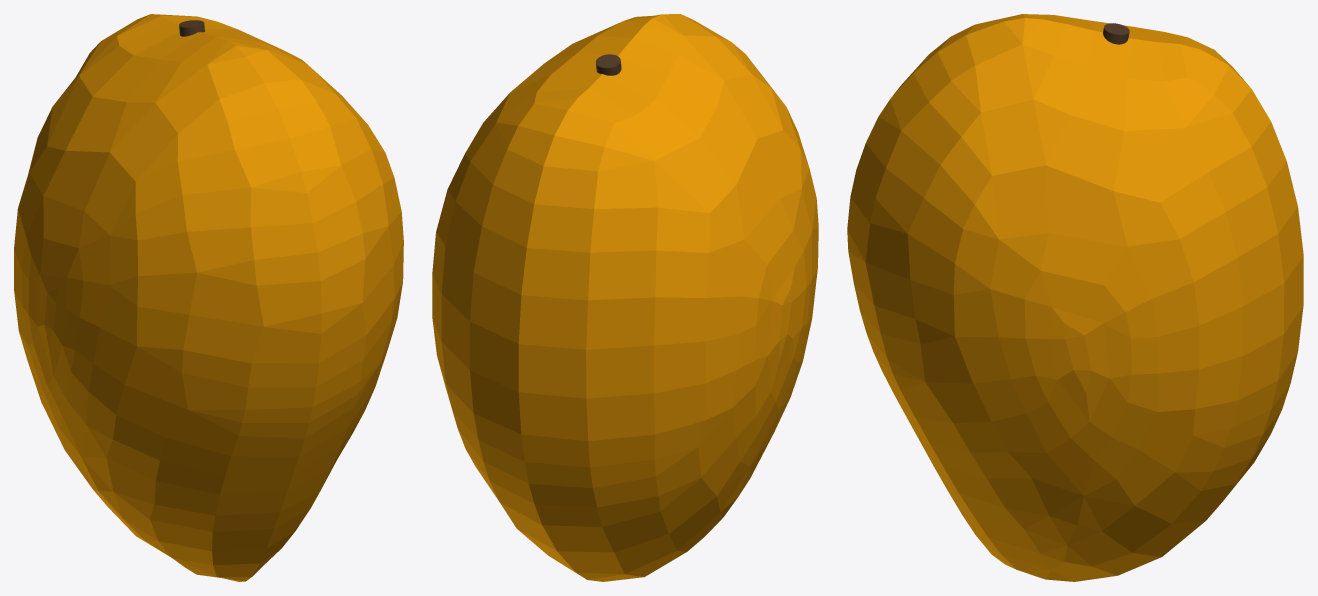
The model's file is mango1.gltf.
3 views of the same model, side by side, from view 1: azimuth 30°, elevation 25°; view 2: azimuth 150°, elevation 25°; view 3: azimuth 270°, elevation 25° (orthographic). The views are drawn at different scales.
Parts seen in each view (by area): view 1: mangoCrossSectionMeshed.005; view 2: mangoCrossSectionMeshed.005; view 3: mangoCrossSectionMeshed.005.
Part boxes in pixels (x1,y1,x2,y2): mangoCrossSectionMeshed.005: [14, 14, 403, 581]; mangoCrossSectionMeshed.005: [432, 14, 818, 581]; mangoCrossSectionMeshed.005: [847, 14, 1303, 581].
Size of the model in its own units: 1.54 by 2.49 by 1.84.
